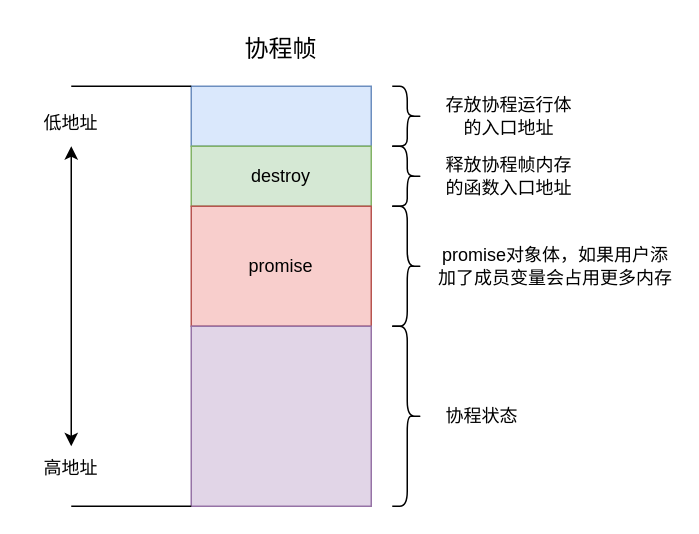
This 699x534 diagram has some shape labels left out. Each missing label, with the box of its shape:
actor: (190, 85, 371, 146)
协程当前执行点、 局部变量等: (190, 325, 371, 506)
